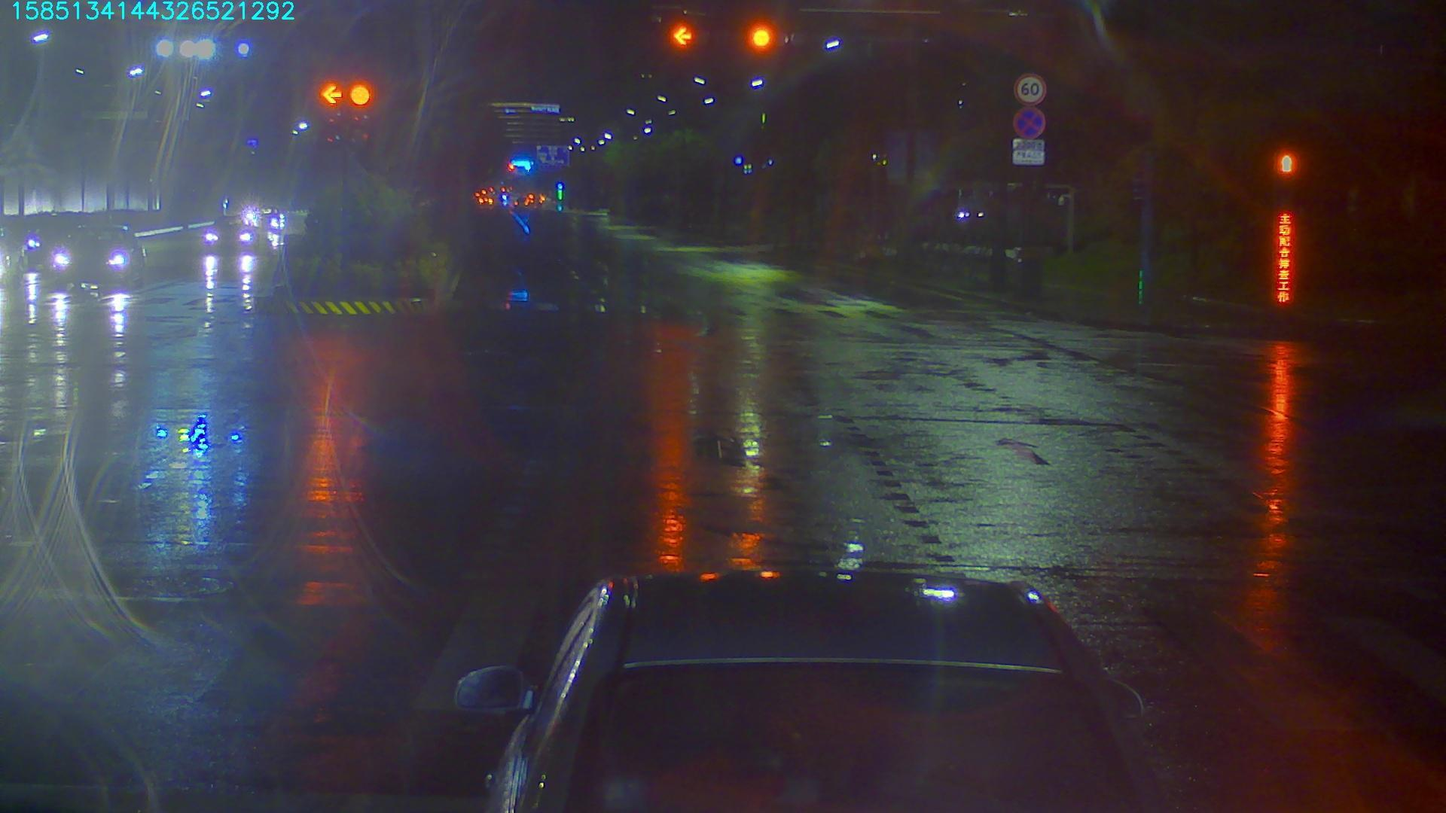red: (737, 17, 780, 65), (663, 19, 698, 54), (313, 75, 345, 111), (346, 72, 373, 113)
